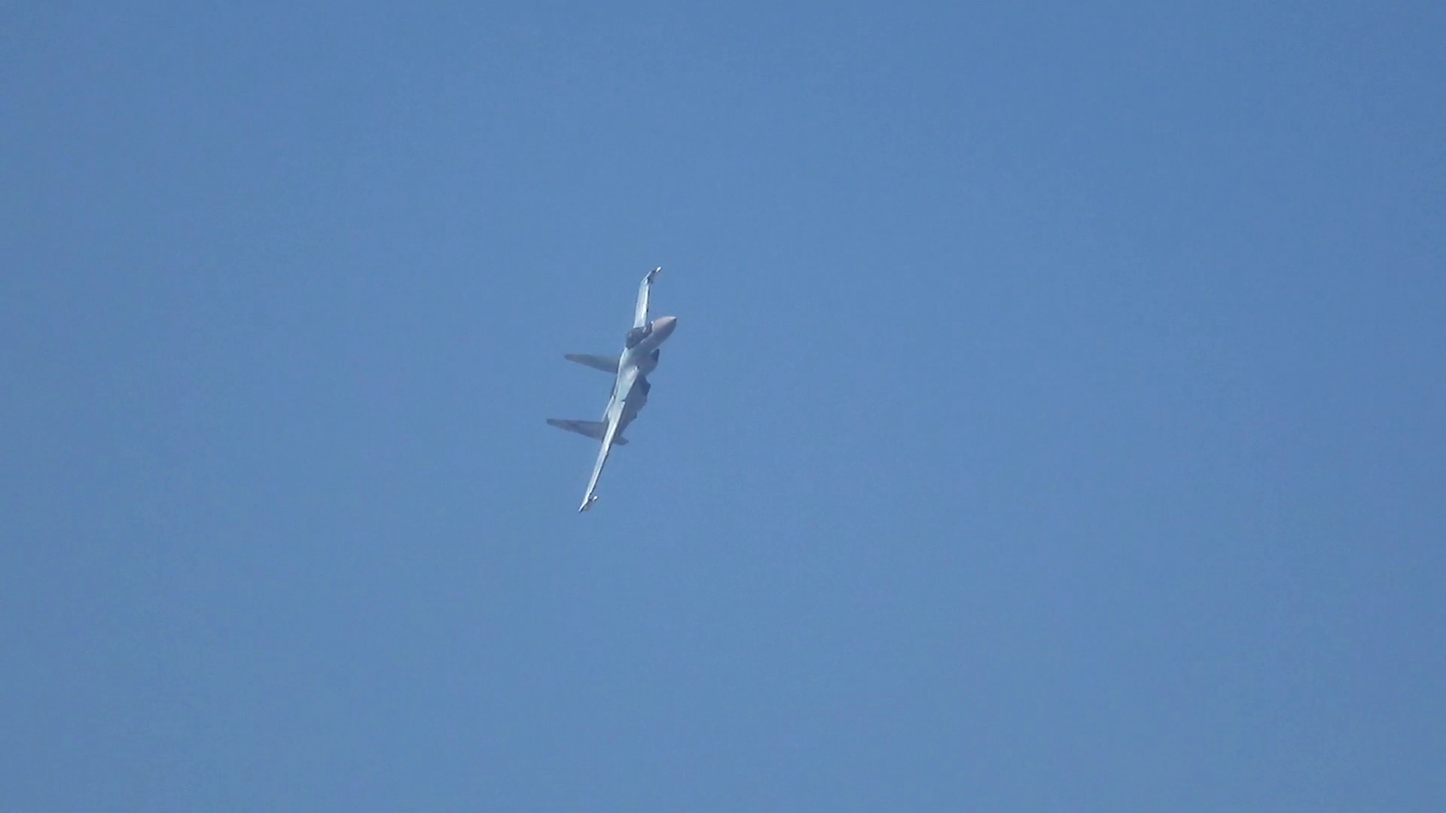Su35: (546, 267, 677, 514)
